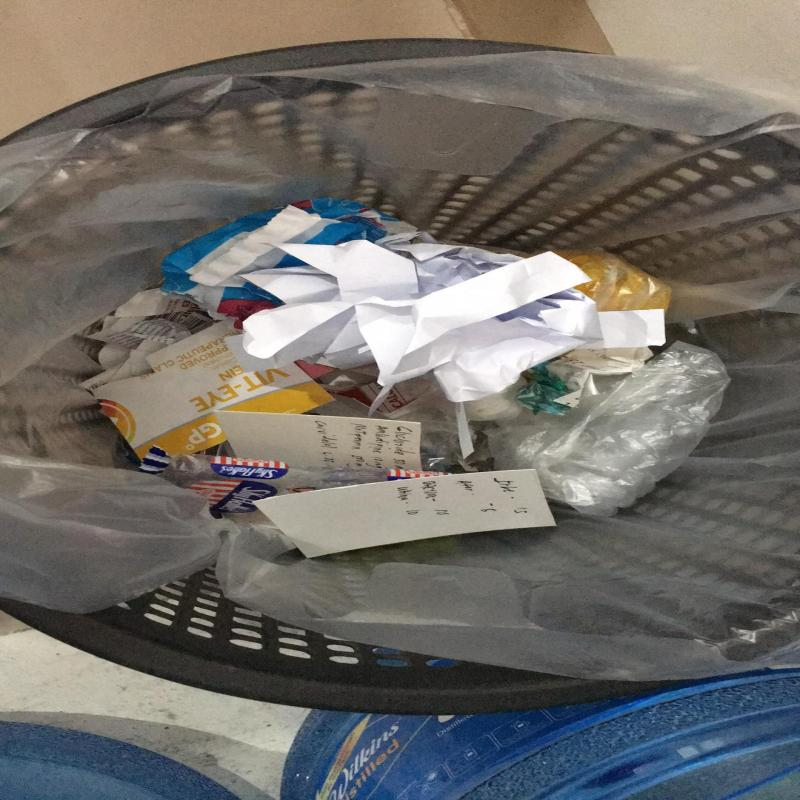cardboard: (253, 469, 559, 558), (213, 411, 421, 470)
food wrapper: (141, 446, 450, 518)
paper: (224, 233, 666, 404), (80, 319, 334, 461), (161, 198, 417, 322)
plastic bag: (488, 341, 731, 517)
